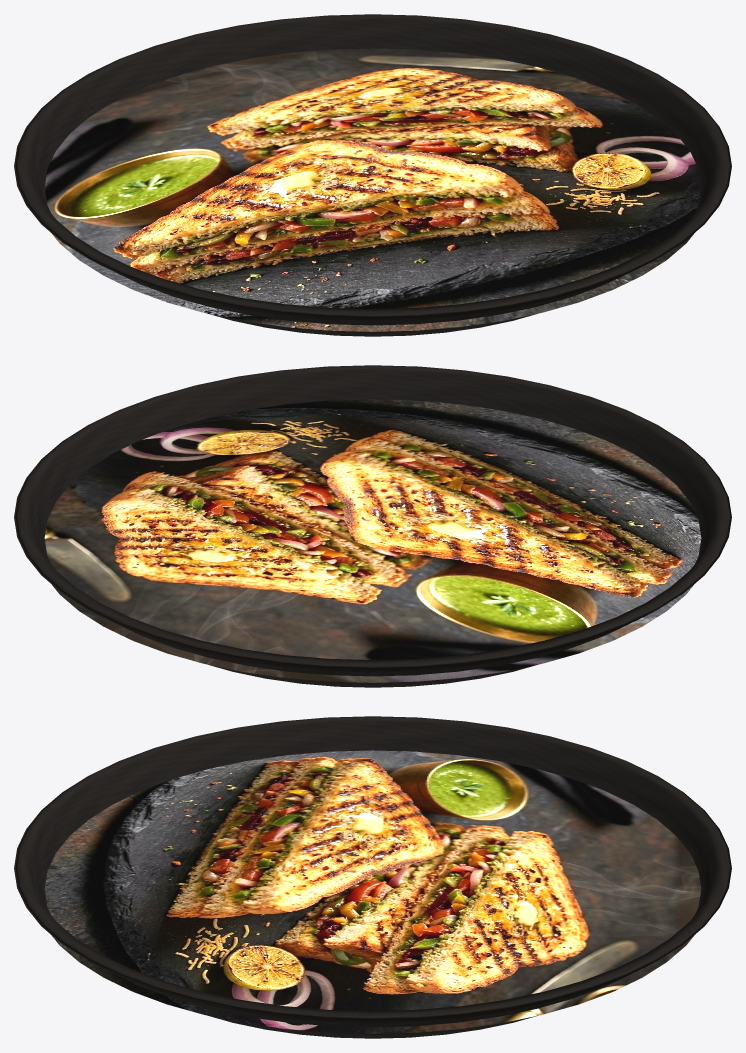
File: grilled-sandwich.glb
The picture shows the model from 3 angles, top to bottom: view 1: azimuth 30°, elevation 25°; view 2: azimuth 150°, elevation 25°; view 3: azimuth 270°, elevation 25°; orthographic projection.
Visible parts, largest first — view 1: FoodMound, StonewareVessel; view 2: FoodMound, StonewareVessel; view 3: FoodMound, StonewareVessel.
Part boxes in pixels (left/top/right/bottom): FoodMound: left=44, top=48, right=701, bottom=331; StonewareVessel: left=14, top=14, right=731, bottom=336; FoodMound: left=44, top=399, right=701, bottom=682; StonewareVessel: left=14, top=365, right=731, bottom=687; FoodMound: left=44, top=750, right=701, bottom=1033; StonewareVessel: left=14, top=716, right=731, bottom=1038.
Size of the model in its own units: 0.24 by 0.0225 by 0.24.
Materials: 2 (2 with a texture image).
